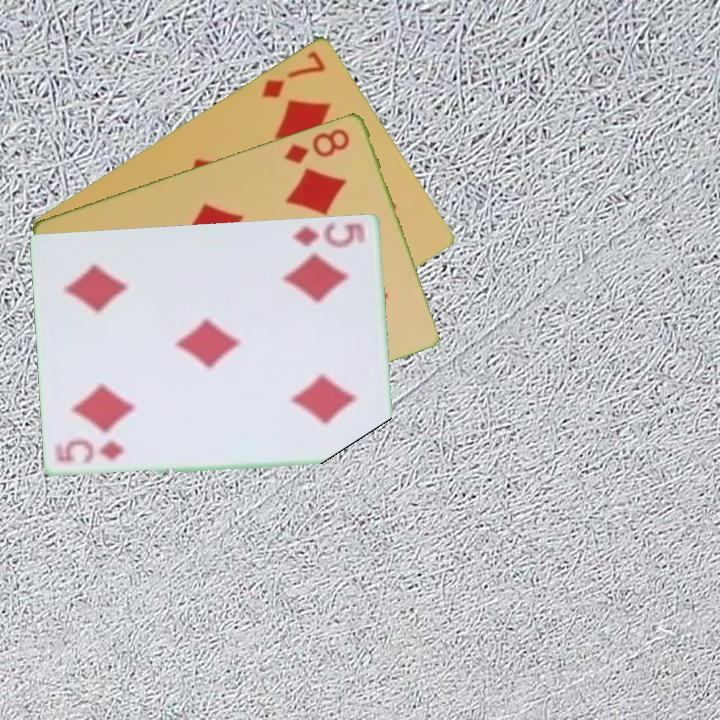5d: (289, 218, 370, 250), (53, 438, 128, 466)
7d: (258, 46, 328, 101)
8d: (280, 124, 353, 166)
